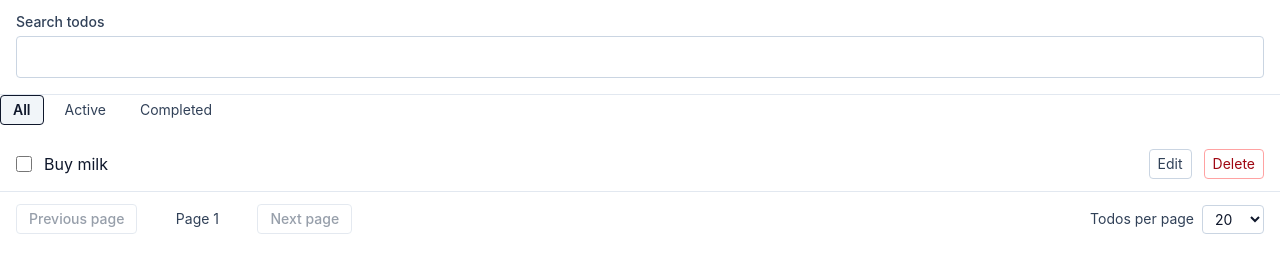
TodoFlows editing: saving › closes the editor and returns focus to the Edit button after a success
Double-click the text "Buy milk" at (76, 164), box [44,154,108,174]
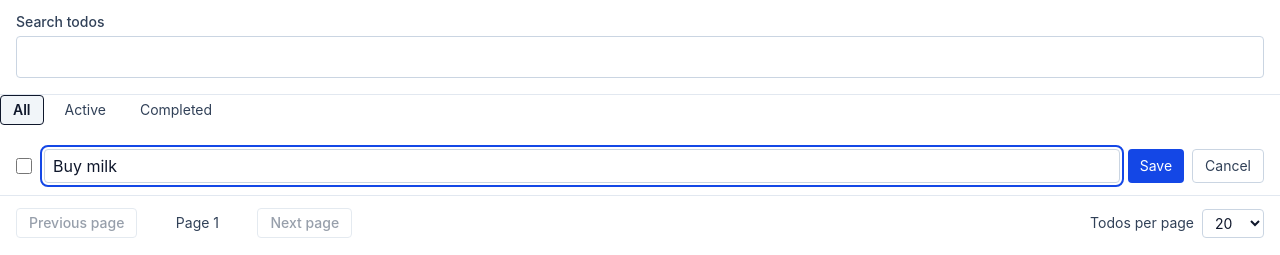
Type "!" into the field named "Edit title of “Buy milk”" at (582, 166), box [44,149,1120,183]
Then press Enter
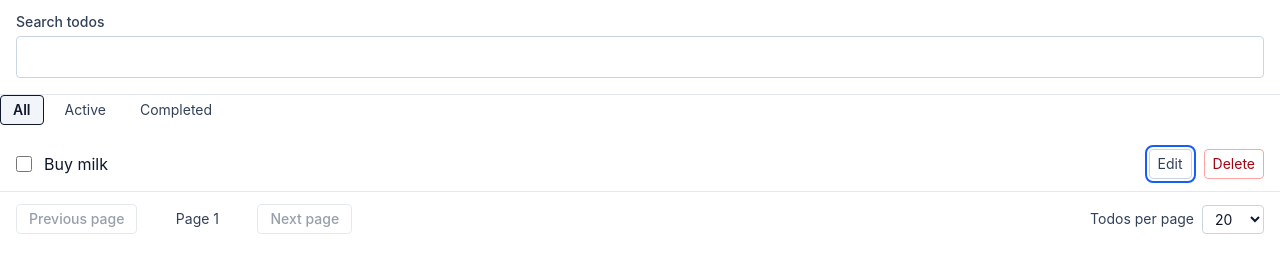
Expected: the field is gone
